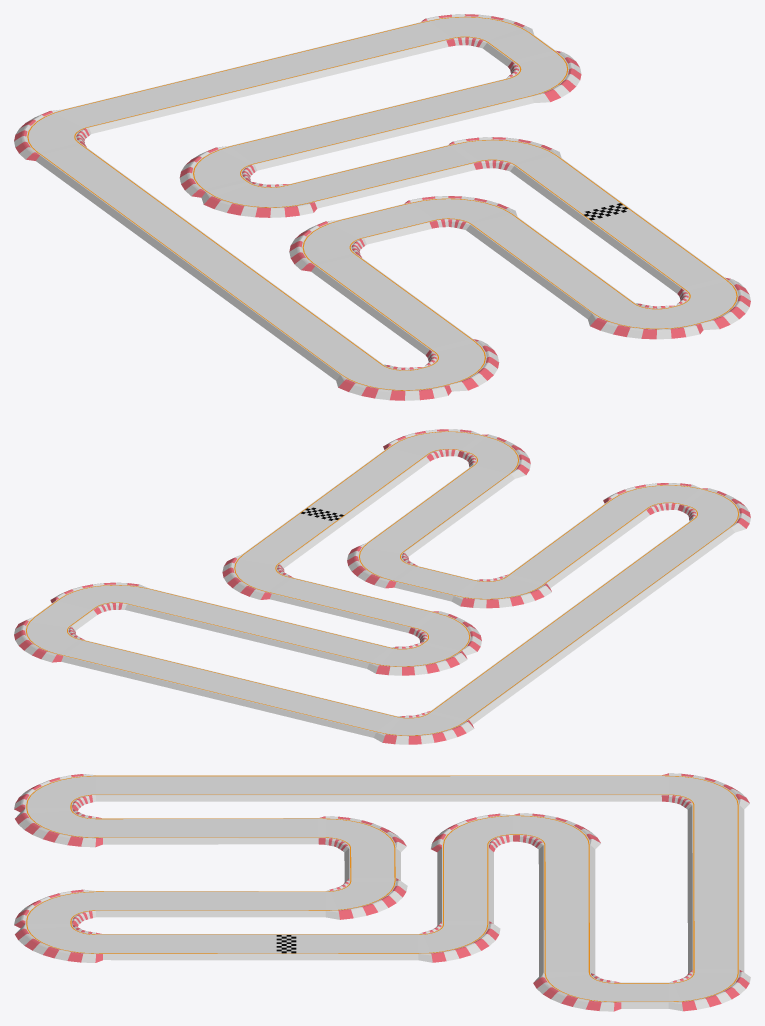
Rendered from racetrack.fbx.
3 views of the same model, one above another, from view 1: azimuth 30°, elevation 25°; view 2: azimuth 150°, elevation 25°; view 3: azimuth 270°, elevation 25° (orthographic). The views are drawn at different scales.
Visible parts, largest first — view 1: Straight.007, Straight.005, Straight.004, Straight.001, Straight.006, Straight.003, Straight, Track, Curve.004, Curve.001, Curve.009, Curve.006 (+10 smaller); view 2: Straight.007, Straight.005, Straight.004, Straight.001, Straight.006, Straight.003, Straight, Track, Curve.005, Curve.011, Curve.008, Curve.003 (+10 smaller); view 3: Straight.007, Straight.005, Straight.004, Straight.001, Straight.006, Straight, Straight.003, Track, Curve.006, Curve.007, Curve.010, Curve (+11 smaller).
Boxes of the visible parts, <box> form: Straight.007: <box>36,145,382,380</box>; Straight.005: <box>64,22,448,133</box>; Straight.004: <box>230,78,533,170</box>; Straight.001: <box>466,214,634,319</box>; Straight.006: <box>311,255,472,354</box>; Straight.003: <box>290,145,475,208</box>; Straight: <box>585,210,724,293</box>; Track: <box>510,155,621,218</box>; Curve.004: <box>201,181,317,217</box>; Curve.001: <box>588,303,703,339</box>; Curve.009: <box>336,364,451,400</box>; Curve.006: <box>506,50,581,102</box>; Straight.007: <box>431,518,734,724</box>; Straight.005: <box>61,640,397,737</box>; Straight.004: <box>125,588,390,668</box>; Straight.001: <box>367,465,514,556</box>; Straight.006: <box>509,501,649,587</box>; Straight.003: <box>270,578,432,632</box>; Straight: <box>308,447,429,520</box>; Track: <box>242,513,339,567</box>; Curve.005: <box>367,641,467,675</box>; Curve.011: <box>374,710,474,744</box>; Curve.008: <box>451,574,551,608</box>; Curve.003: <box>222,554,293,599</box>; Straight.007: <box>96,775,661,801</box>; Straight.005: <box>687,805,744,973</box>; Straight.004: <box>538,845,595,976</box>; Straight.001: <box>96,891,325,917</box>; Straight.006: <box>103,818,318,844</box>; Straight: <box>103,934,276,960</box>; Straight.003: <box>437,848,493,924</box>; Track: <box>296,934,418,960</box>; Curve.006: <box>533,972,621,1011</box>; Curve.007: <box>668,969,750,1011</box>; Curve.010: <box>15,808,102,847</box>; Curve: <box>15,924,102,962</box>.
Bounding box in the file's own units: 23764 × 253 × 31266.
